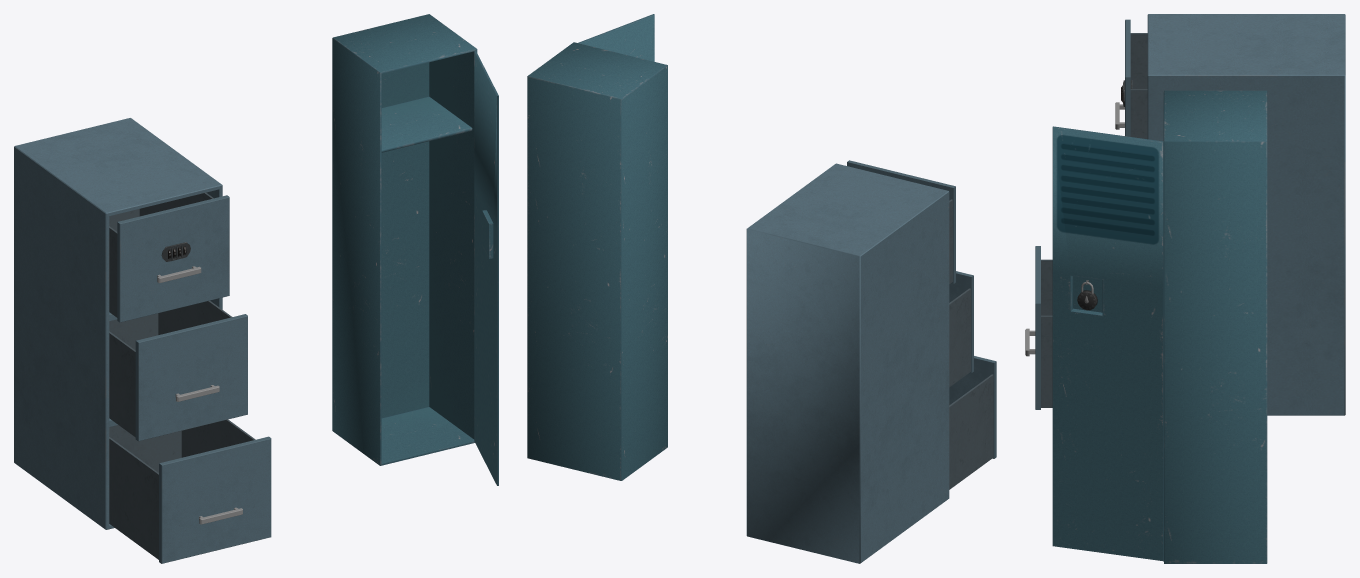
The model's file is Lockers.fbx.
3 views of the same model, side by side, from view 1: azimuth 30°, elevation 25°; view 2: azimuth 150°, elevation 25°; view 3: azimuth 270°, elevation 25° (orthographic). The views are drawn at different scales.
Parts seen in each view (by area): view 1: Locker2, Locker1, Drawer_Bottom_Locker1, Drawer_Middle_Locker1, Drawer_Top_Locker1, Door_Locker2; view 2: Locker1, Locker2, Drawer_Bottom_Locker1, Drawer_Middle_Locker1, Door_Locker2, Drawer_Top_Locker1; view 3: Locker2, Door_Locker2, Locker1, Drawer_Bottom_Locker1, Drawer_Top_Locker1.
Part boxes in pixels (x1,y1,x2,y2): Locker2: (332,14,477,465); Locker1: (14,118,222,529); Drawer_Bottom_Locker1: (109,419,271,563); Drawer_Middle_Locker1: (109,300,247,441); Drawer_Top_Locker1: (109,192,229,322); Door_Locker2: (474,51,498,485); Locker1: (746,163,949,563); Locker2: (527,42,667,480); Drawer_Bottom_Locker1: (949,356,996,489); Drawer_Middle_Locker1: (949,271,973,387); Door_Locker2: (578,14,654,61); Drawer_Top_Locker1: (847,160,955,284); Locker2: (1163,90,1267,563); Door_Locker2: (1052,126,1163,561); Locker1: (1147,14,1345,415); Drawer_Bottom_Locker1: (1025,246,1052,409); Drawer_Top_Locker1: (1115,19,1147,139).
Size of the model in its own units: 290 by 287 by 197.
Materials: 2 (2 with a texture image).
